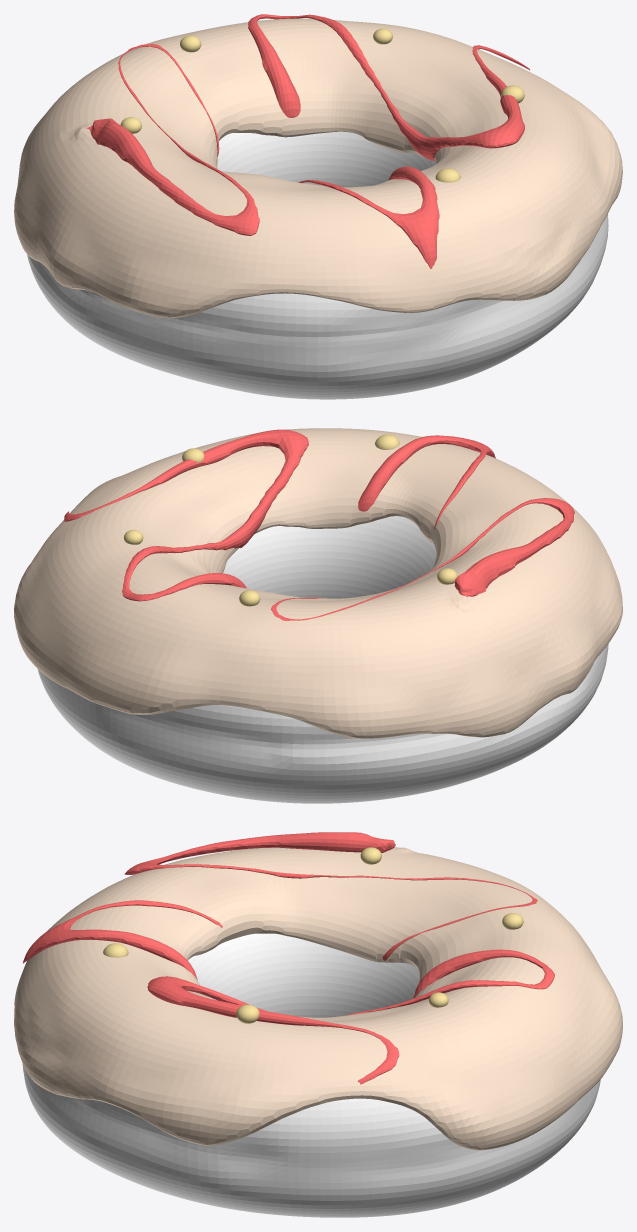
The model's file is Donut_03.glb.
3 views of the same model, one above another, from view 1: azimuth 30°, elevation 25°; view 2: azimuth 150°, elevation 25°; view 3: azimuth 270°, elevation 25° (orthographic).
Parts seen in each view (by area): view 1: Chocolate, Donnt, Chocolate ext; view 2: Chocolate, Donnt, Chocolate ext; view 3: Chocolate, Donnt, Chocolate ext.
Part boxes in pixels (x1,y1,x2,y2): Chocolate: [14, 18, 622, 318]; Donnt: [27, 131, 608, 399]; Chocolate ext: [86, 14, 529, 268]; Chocolate: [14, 428, 622, 738]; Donnt: [37, 516, 608, 803]; Chocolate ext: [64, 429, 574, 620]; Chocolate: [14, 847, 622, 1150]; Donnt: [22, 933, 600, 1217]; Chocolate ext: [23, 832, 554, 1084].
Size of the model in its own units: 1.85 by 0.7102 by 1.88.
